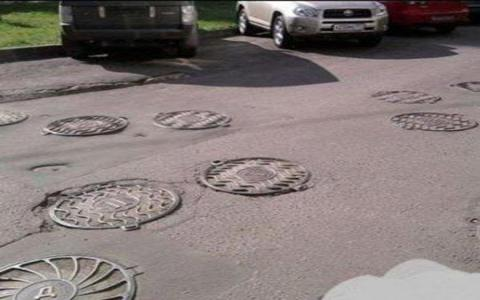proper manhole: (37, 165, 191, 239), (189, 139, 317, 207), (32, 105, 135, 146), (142, 94, 238, 134), (379, 101, 478, 133)
